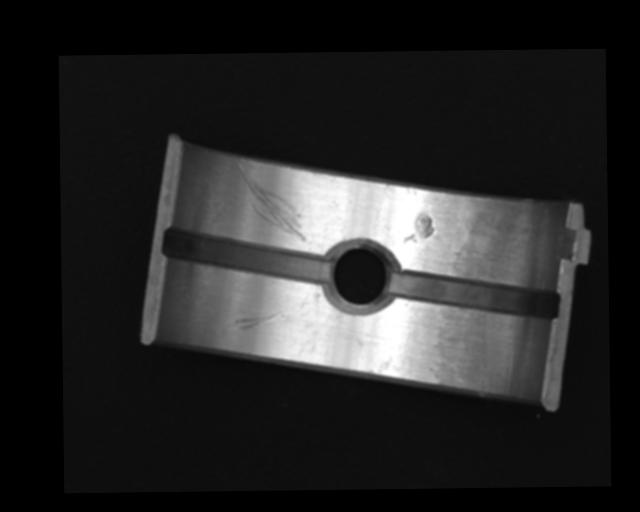bruise: (403, 212, 435, 243)
gap: (162, 227, 330, 285), (390, 273, 559, 321)
hole: (325, 237, 397, 315)
nick: (237, 163, 305, 244), (233, 310, 287, 332)
